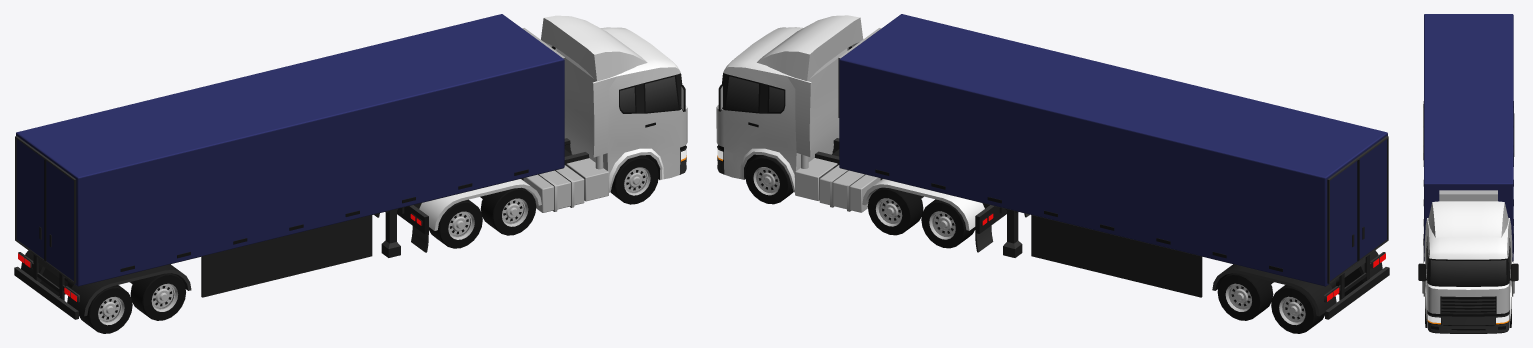
File: Truck_005.glb
3 views of the same model, side by side, from view 1: azimuth 30°, elevation 25°; view 2: azimuth 150°, elevation 25°; view 3: azimuth 270°, elevation 25° (orthographic). The views are drawn at different scales.
Parts seen in each view (by area): view 1: Truck_005, wheel_7_Truck_005_Wheel_4R, wheel_3_Truck_005_Wheel_2R, wheel_1_Truck_005_Wheel_1R, wheel_5_Truck_005_Wheel_3R, wheel_9_Truck_005_Wheel_5R; view 2: Truck_005, wheel_6_Truck_005_Wheel_4L, wheel_2_Truck_005_Wheel_2L, wheel_0_Truck_005_Wheel_1L, wheel_4_Truck_005_Wheel_3L, wheel_8_Truck_005_Wheel_5L; view 3: Truck_005.
Part boxes in pixels (x1=…): Truck_005: x1=14, y1=14, x2=687, y2=319; wheel_7_Truck_005_Wheel_4R: x1=130, y1=273, x2=185, y2=320; wheel_3_Truck_005_Wheel_2R: x1=480, y1=187, x2=536, y2=235; wheel_1_Truck_005_Wheel_1R: x1=610, y1=155, x2=658, y2=204; wheel_5_Truck_005_Wheel_3R: x1=429, y1=199, x2=482, y2=248; wheel_9_Truck_005_Wheel_5R: x1=79, y1=285, x2=132, y2=333; Truck_005: x1=716, y1=14, x2=1389, y2=319; wheel_6_Truck_005_Wheel_4L: x1=1217, y1=273, x2=1273, y2=320; wheel_2_Truck_005_Wheel_2L: x1=867, y1=187, x2=923, y2=235; wheel_0_Truck_005_Wheel_1L: x1=745, y1=155, x2=793, y2=204; wheel_4_Truck_005_Wheel_3L: x1=921, y1=199, x2=975, y2=248; wheel_8_Truck_005_Wheel_5L: x1=1271, y1=285, x2=1324, y2=333; Truck_005: x1=1418, y1=14, x2=1518, y2=333.
Size of the model in its own units: 13.61 by 3.43 by 2.66.
Materials: 3 (3 with a texture image).
